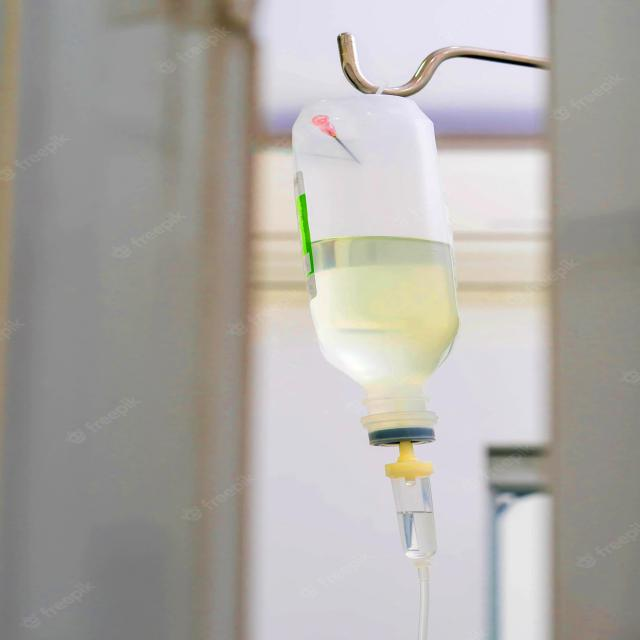B3: (241, 79, 501, 418)
